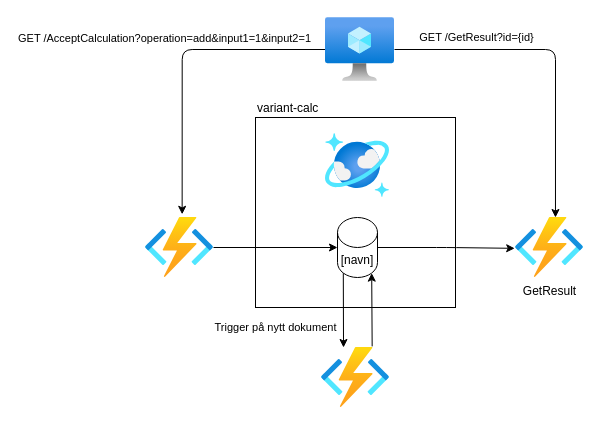
Some shapes in this 600 by 445 pixel diagram are drawn without their labels. Each missing label, with the centre of its shape:
"AcceptCalculation" belongs at (179,247).
"CosmosTriggerCalculator" belongs at (355,377).
